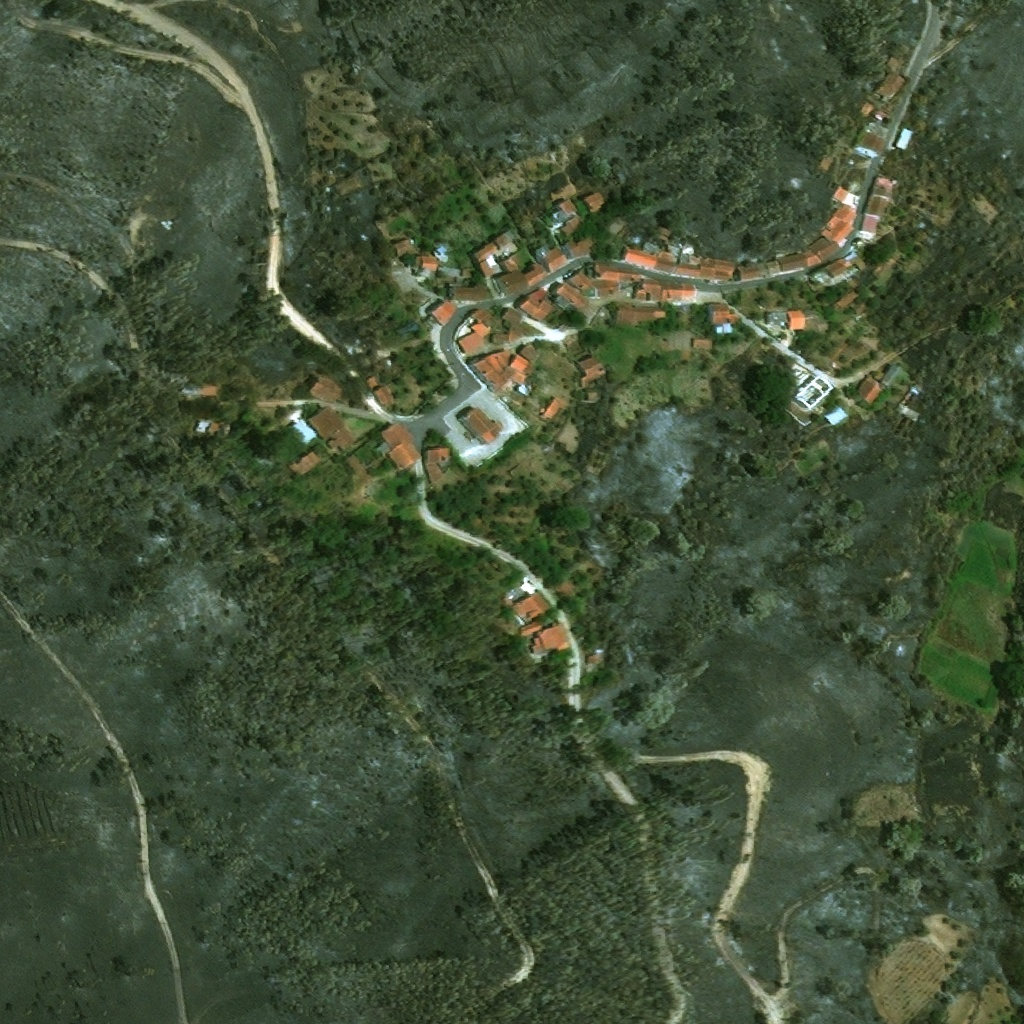0 no-damage: (625, 240, 735, 281), (809, 185, 862, 260), (519, 281, 590, 325), (465, 347, 531, 394), (565, 261, 641, 298), (490, 251, 548, 295), (303, 404, 354, 453), (859, 173, 895, 236), (470, 230, 520, 275), (378, 421, 419, 474), (514, 620, 569, 655), (456, 408, 503, 444), (794, 369, 835, 409), (545, 197, 584, 238), (633, 277, 697, 301), (512, 590, 549, 623), (614, 301, 667, 324), (778, 248, 825, 271), (294, 445, 328, 476), (422, 447, 449, 486), (534, 244, 569, 273), (425, 299, 458, 328), (709, 302, 739, 333), (576, 354, 608, 383), (562, 234, 598, 259), (855, 130, 887, 158), (448, 281, 495, 300), (305, 377, 338, 404), (858, 374, 886, 404), (766, 309, 807, 329), (540, 394, 569, 421), (370, 383, 397, 412), (878, 72, 906, 99), (739, 261, 772, 281), (881, 362, 906, 388), (825, 403, 851, 426), (583, 191, 606, 213), (895, 126, 916, 150), (179, 385, 213, 399), (835, 287, 860, 306), (470, 308, 494, 327), (391, 238, 414, 257), (827, 258, 848, 277), (553, 578, 572, 598), (501, 307, 523, 324), (509, 326, 529, 343), (767, 259, 784, 276), (419, 256, 437, 272), (583, 654, 602, 665), (874, 108, 889, 121)
3 destroyed: (903, 389, 921, 408)
4 un-classified: (393, 321, 419, 342)
